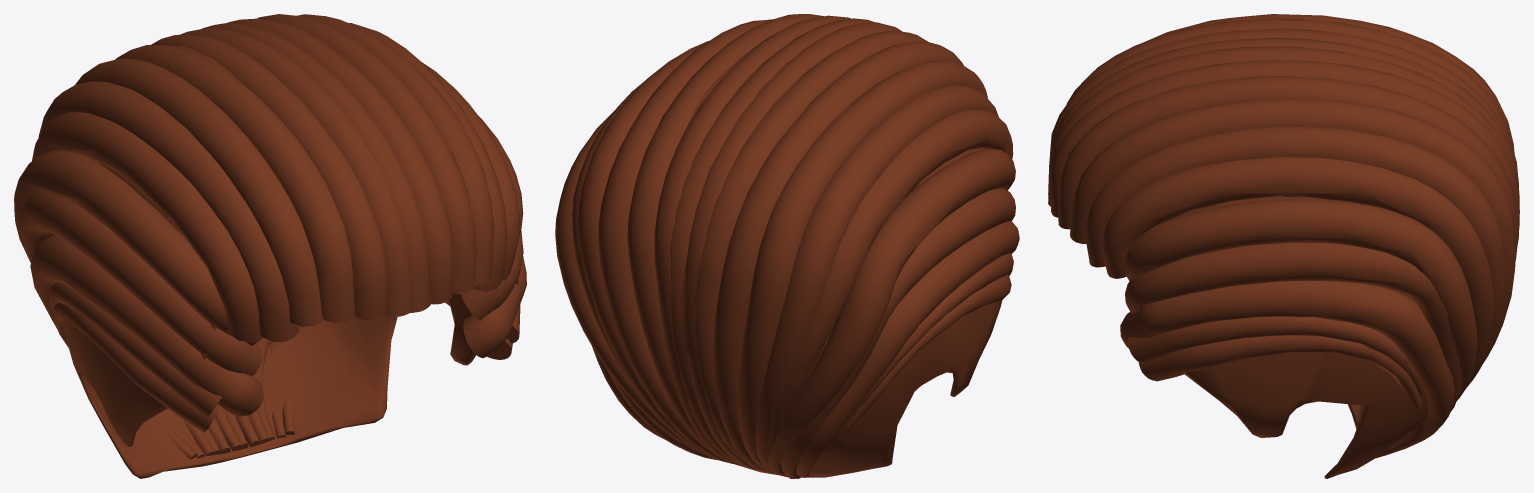
The model's file is hair-2-e63db238.glb.
3 views of the same model, side by side, from view 1: azimuth 30°, elevation 25°; view 2: azimuth 150°, elevation 25°; view 3: azimuth 270°, elevation 25° (orthographic). The views are drawn at different scales.
Parts seen in each view (by area): view 1: hair_2.001; view 2: hair_2.001; view 3: hair_2.001.
Boxes of the visible parts, <box> form: hair_2.001: <box>14,14,526,478</box>; hair_2.001: <box>555,14,1019,478</box>; hair_2.001: <box>1048,14,1519,478</box>.
Bounding box in the file's own units: 1.65 × 1.74 × 1.85.
